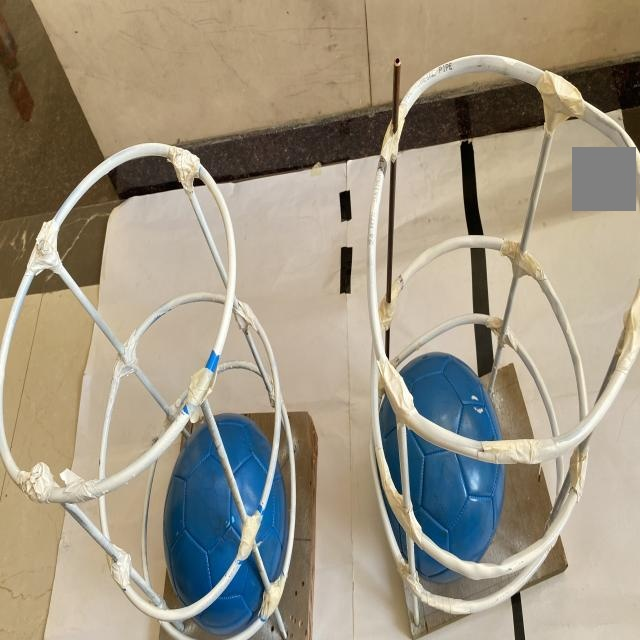blue_ball: (376, 347, 514, 592), (153, 422, 300, 629)
silo: (355, 41, 640, 640), (0, 131, 318, 640)
